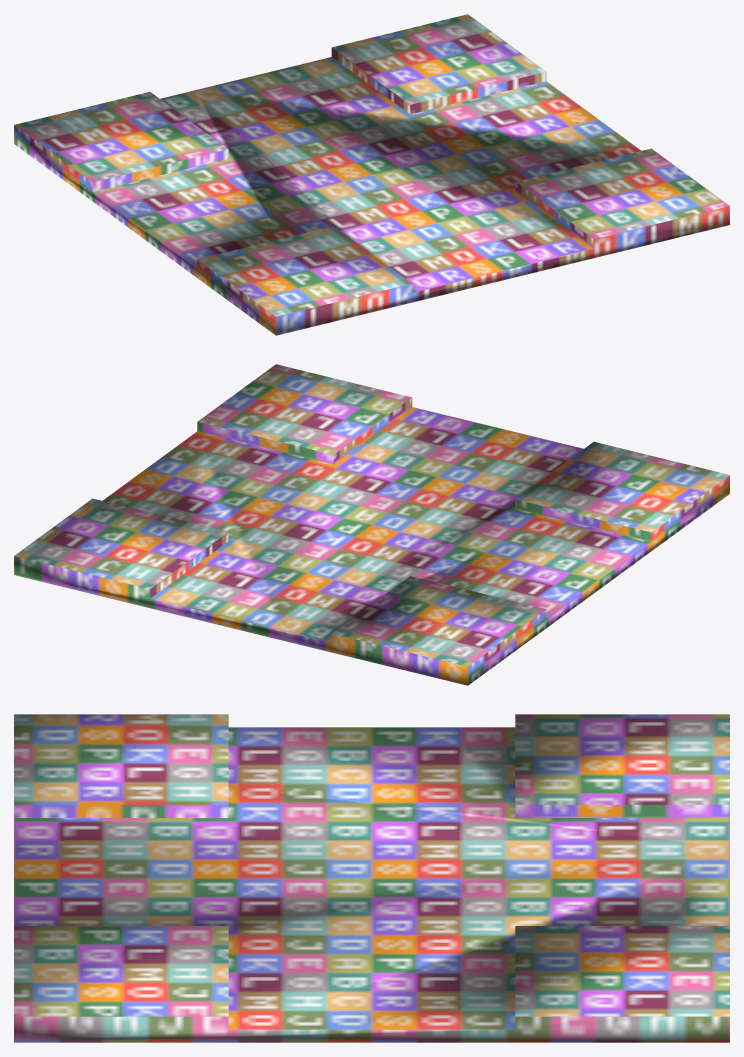
File: intersection.obj
3 renders of one model, top to bottom at view 1: azimuth 30°, elevation 25°; view 2: azimuth 150°, elevation 25°; view 3: azimuth 270°, elevation 25°, orthographic. The views are drawn at different scales.
Visible parts, largest first — view 1: grid4; view 2: grid4; view 3: grid4.
Boxes of the visible parts, box(x1,y1,x2,y2) form: grid4: box(14, 14, 729, 335); grid4: box(14, 364, 729, 685); grid4: box(14, 714, 729, 1042).
Bounding box in the file's own units: 5 × 0.2 × 5.
Materials: 1 (1 with a texture image).
